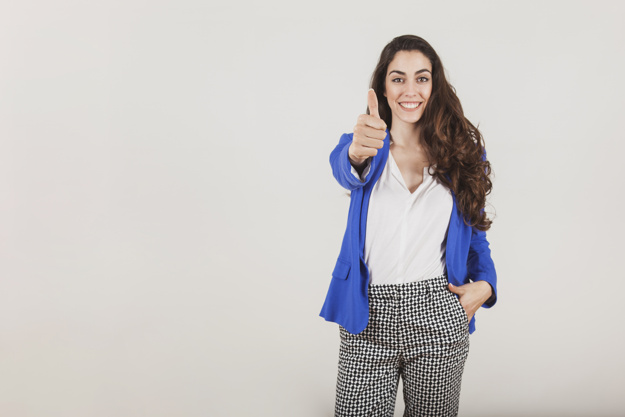thumbsup: (351, 88, 387, 157)
